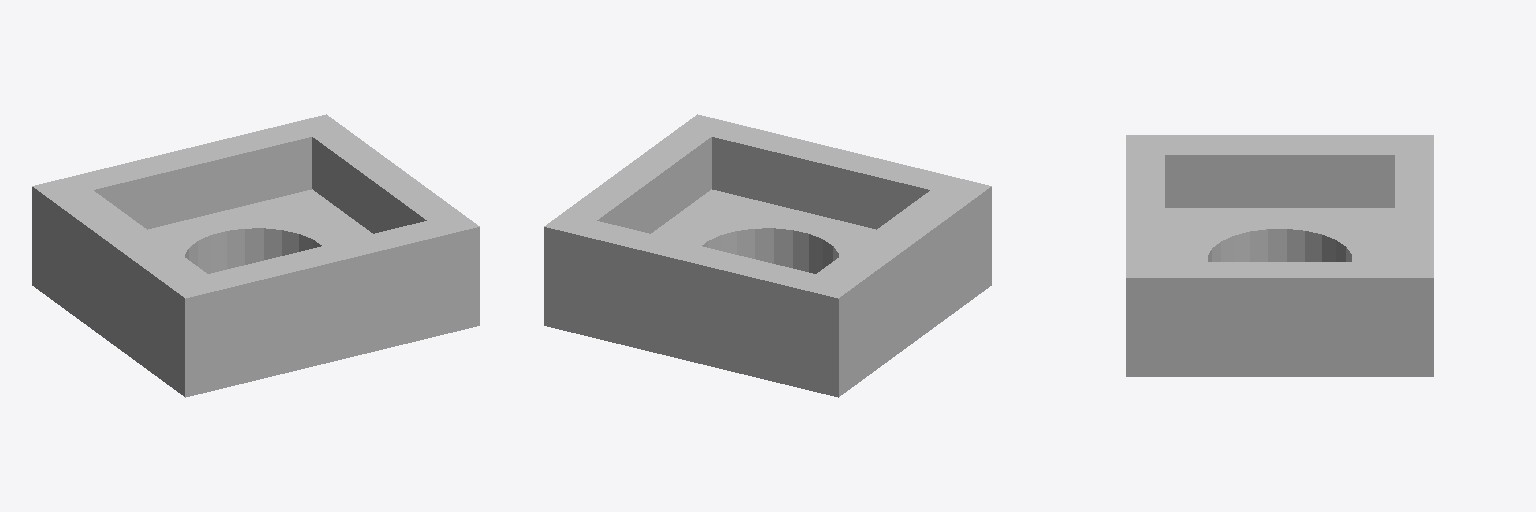
File: knob spacer.obj
3 views of the same model, side by side, from view 1: azimuth 30°, elevation 25°; view 2: azimuth 150°, elevation 25°; view 3: azimuth 270°, elevation 25° (orthographic).
Parts seen in each view (by area): view 1: Mesh1 Group1 Model; view 2: Mesh1 Group1 Model; view 3: Mesh1 Group1 Model.
Part boxes in pixels (x1,y1,x2,y2): Mesh1 Group1 Model: (32, 114, 479, 397); Mesh1 Group1 Model: (544, 114, 991, 397); Mesh1 Group1 Model: (1126, 135, 1433, 376).
Size of the model in its own units: 17.57 by 5.65 by 15.86.